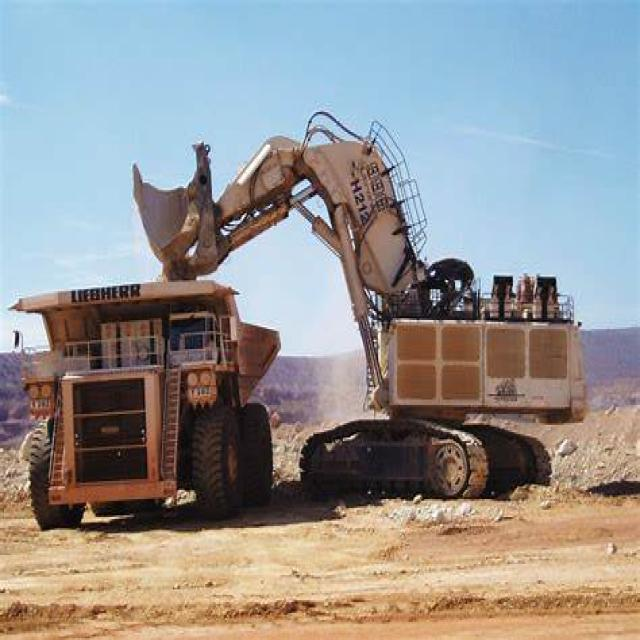dump_truck: (12, 270, 288, 534)
excavator: (140, 89, 593, 532)
